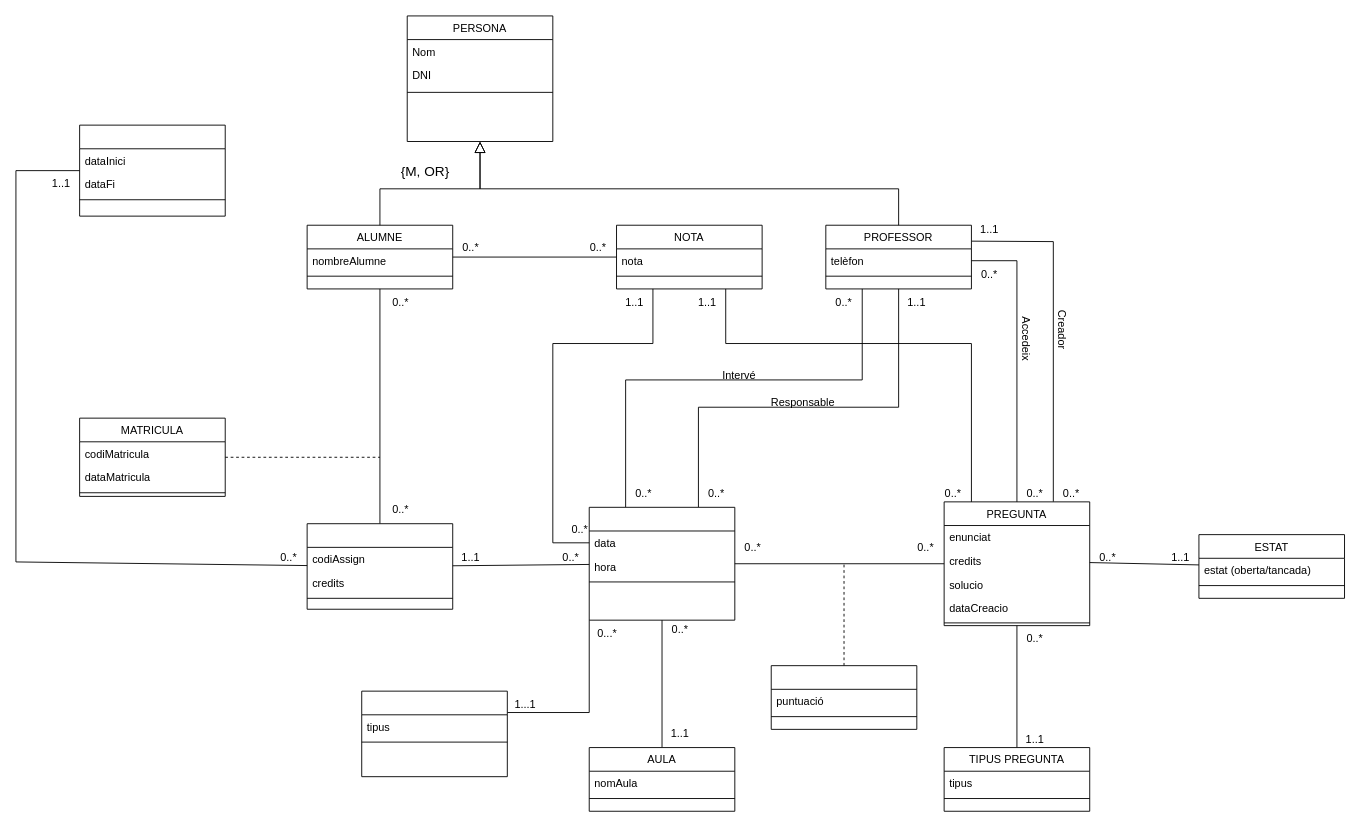
This 1360x827 diagram has some shape labels left out. The box of each missing label's shape, as (x1, y1, x2, y2) in pixels:
ASSIGNATURA: (306, 523, 453, 609)
CONVOCATORIA: (361, 690, 507, 777)
CURS: (79, 124, 225, 216)
EXAMEN: (588, 506, 735, 620)
PUNTUACIO: (770, 665, 917, 729)
